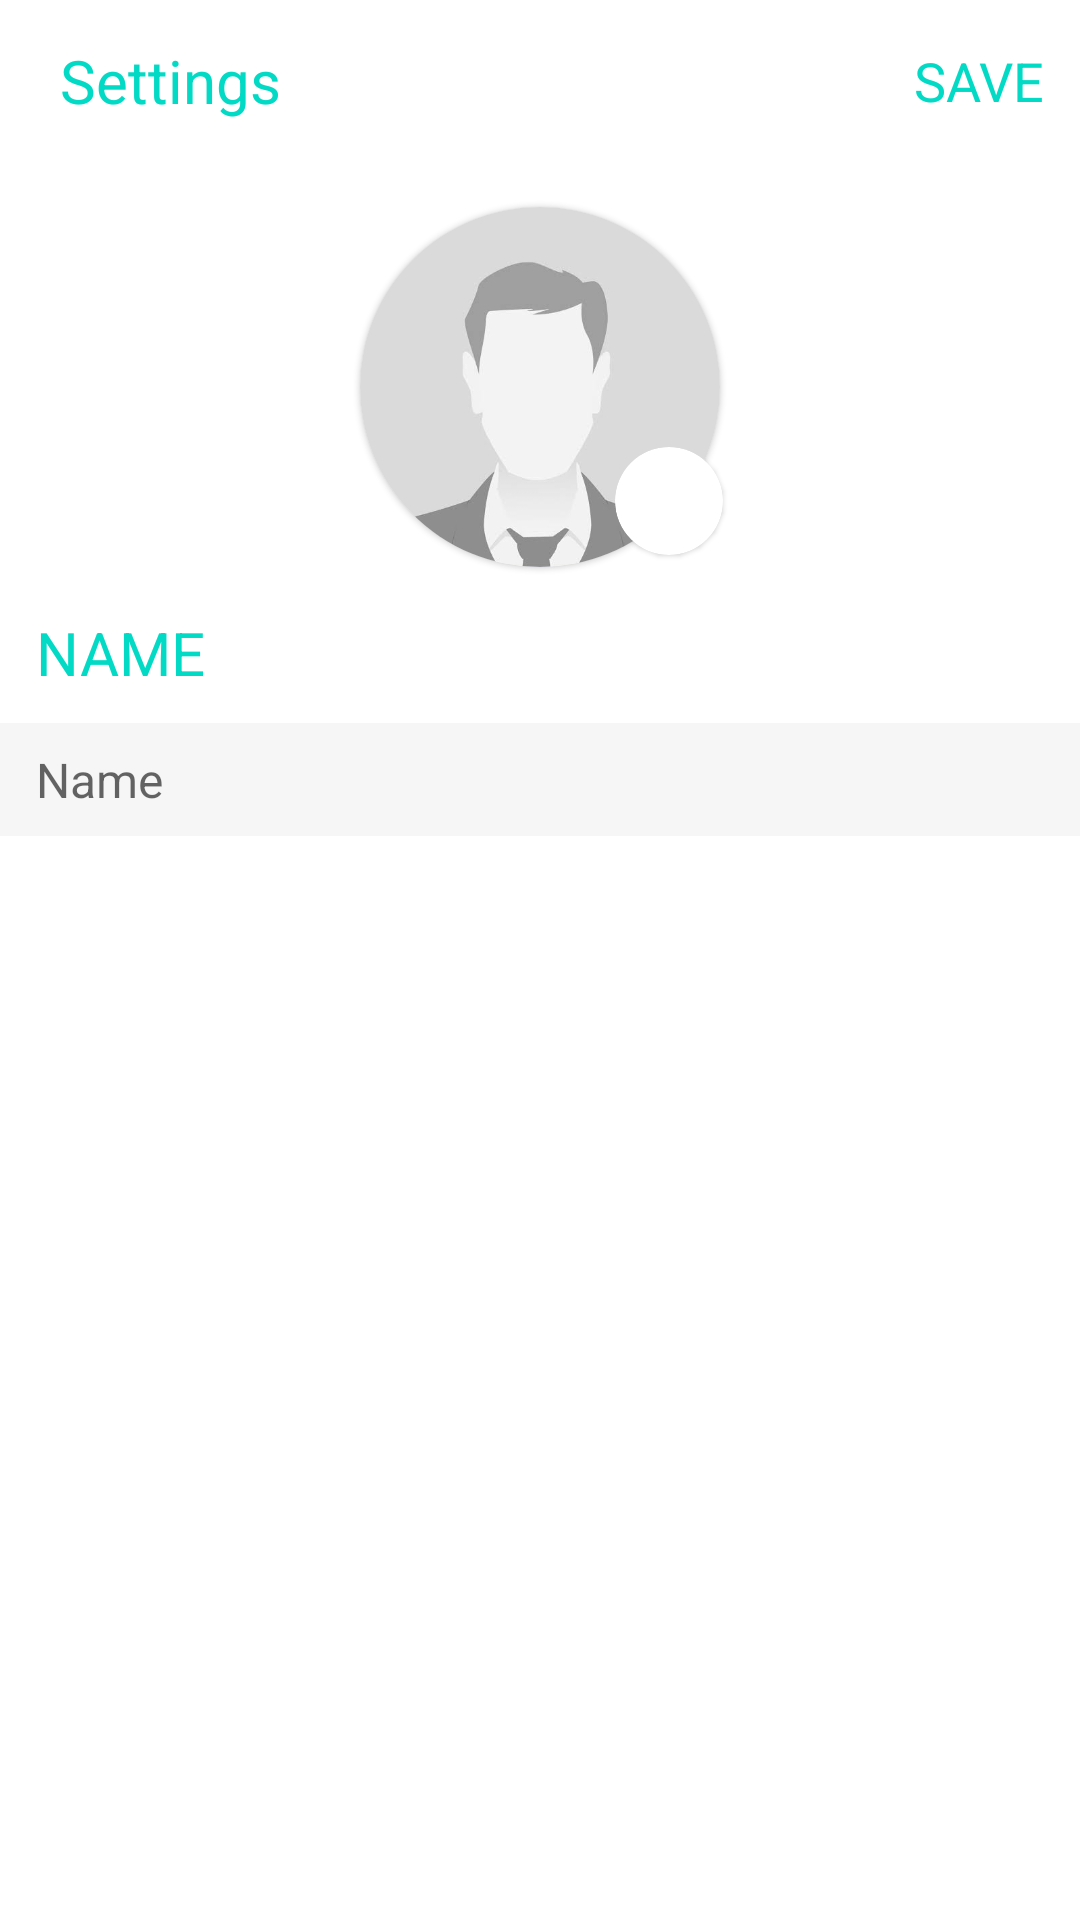

Where to tap for icons on this 1080px x 1920px app screen, as (x,y):
user profile: (540,387)
